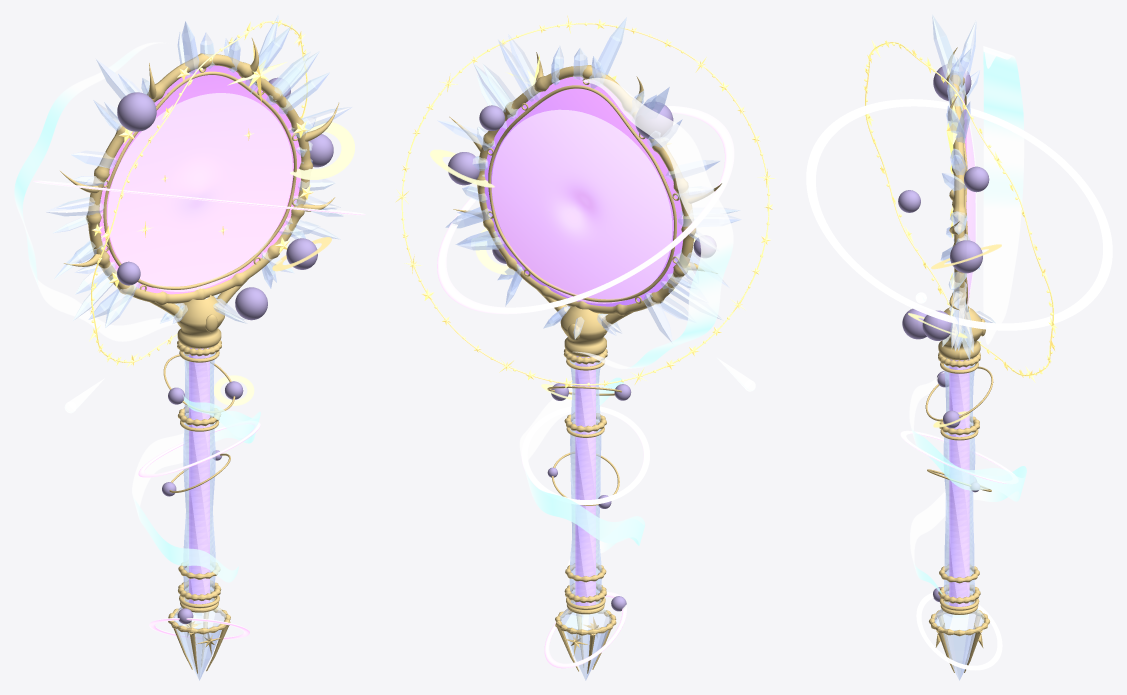
File: PalaGalactica.glb
3 views of the same model, side by side, from view 1: azimuth 30°, elevation 25°; view 2: azimuth 150°, elevation 25°; view 3: azimuth 270°, elevation 25° (orthographic). The views are drawn at different scales.
Parts seen in each view (by area): view 1: Blade_Galaxy, Blade_SwirlFront, Blade_Crystals, Blade_GoldFrame, Shaft_CrystalShell, Aurora_Shaft, Aurora_Blade, Shaft_NebulaCore, Collar_Gold, Shaft_GoldBands, StarHalo, Pommel_Crystal (+11 smaller); view 2: Blade_Galaxy, Blade_SwirlBack, Blade_Crystals, Aurora_Blade, Blade_GoldFrame, Shaft_CrystalShell, Aurora_Shaft, EnergyRing_1, Shaft_NebulaCore, StarHalo, Collar_Gold, Shaft_GoldBands (+7 smaller); view 3: Aurora_Blade, EnergyRing_1, Shaft_CrystalShell, Blade_Crystals, Aurora_Shaft, Shaft_NebulaCore, Blade_GoldFrame, StarHalo, Shaft_GoldBands, Pommel_Crystal, Pommel_Gold, Collar_Gold (+10 smaller).
Boxes of the visible parts, x1=… form: Blade_Galaxy: x1=99, y1=65, x2=301, y2=294; Blade_SwirlFront: x1=107, y1=93, x2=292, y2=291; Blade_Crystals: x1=45, y1=14, x2=352, y2=327; Blade_GoldFrame: x1=60, y1=38, x2=339, y2=305; Shaft_CrystalShell: x1=183, y1=348, x2=215, y2=604; Aurora_Shaft: x1=132, y1=388, x2=260, y2=582; Aurora_Blade: x1=14, y1=42, x2=177, y2=341; Shaft_NebulaCore: x1=189, y1=348, x2=209, y2=604; Collar_Gold: x1=149, y1=278, x2=248, y2=348; Shaft_GoldBands: x1=177, y1=340, x2=221, y2=608; StarHalo: x1=89, y1=19, x2=307, y2=367; Pommel_Crystal: x1=173, y1=599, x2=226, y2=680; Blade_Galaxy: x1=484, y1=76, x2=683, y2=306; Blade_SwirlBack: x1=492, y1=109, x2=672, y2=303; Blade_Crystals: x1=437, y1=17, x2=741, y2=342; Aurora_Blade: x1=573, y1=77, x2=733, y2=368; Blade_GoldFrame: x1=449, y1=52, x2=721, y2=315; Shaft_CrystalShell: x1=569, y1=355, x2=601, y2=605; Aurora_Shaft: x1=519, y1=377, x2=645, y2=567; EnergyRing_1: x1=437, y1=106, x2=734, y2=314; Shaft_NebulaCore: x1=575, y1=356, x2=595, y2=605; StarHalo: x1=395, y1=15, x2=776, y2=388; Collar_Gold: x1=536, y1=289, x2=632, y2=356; Shaft_GoldBands: x1=563, y1=348, x2=607, y2=609; Aurora_Blade: x1=983, y1=46, x2=1024, y2=344; EnergyRing_1: x1=806, y1=99, x2=1112, y2=330; Shaft_CrystalShell: x1=943, y1=358, x2=975, y2=606; Blade_Crystals: x1=932, y1=14, x2=995, y2=360; Aurora_Shaft: x1=909, y1=371, x2=1026, y2=594; Shaft_NebulaCore: x1=949, y1=359, x2=969, y2=606; Blade_GoldFrame: x1=946, y1=47, x2=968, y2=319; StarHalo: x1=863, y1=40, x2=1057, y2=382; Shaft_GoldBands: x1=938, y1=352, x2=980, y2=610; Pommel_Crystal: x1=934, y1=602, x2=984, y2=680; Pommel_Gold: x1=929, y1=600, x2=989, y2=672; Collar_Gold: x1=938, y1=307, x2=985, y2=360.
Size of what is drawn, in the model's own units: 5.55 by 11.32 by 4.81.
